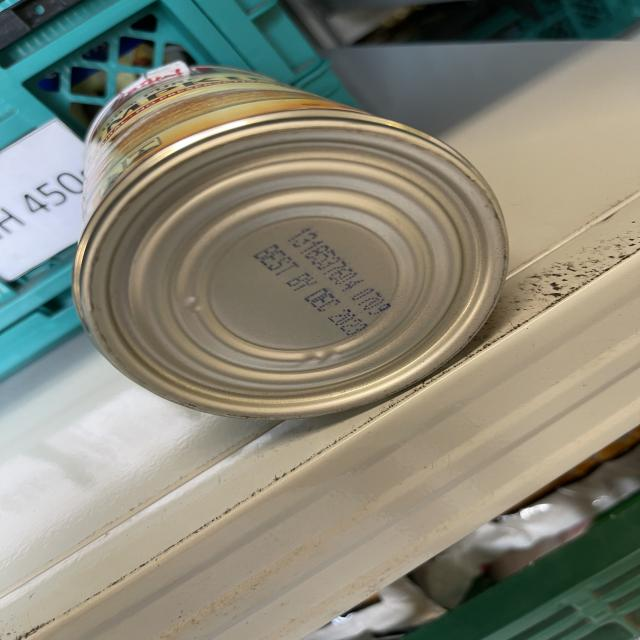object_name: (91, 82, 495, 380)
